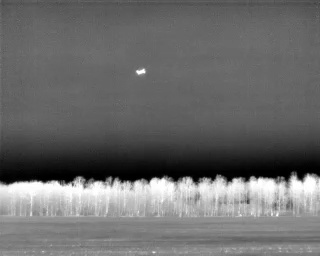DRONE: (132, 64, 151, 80)
